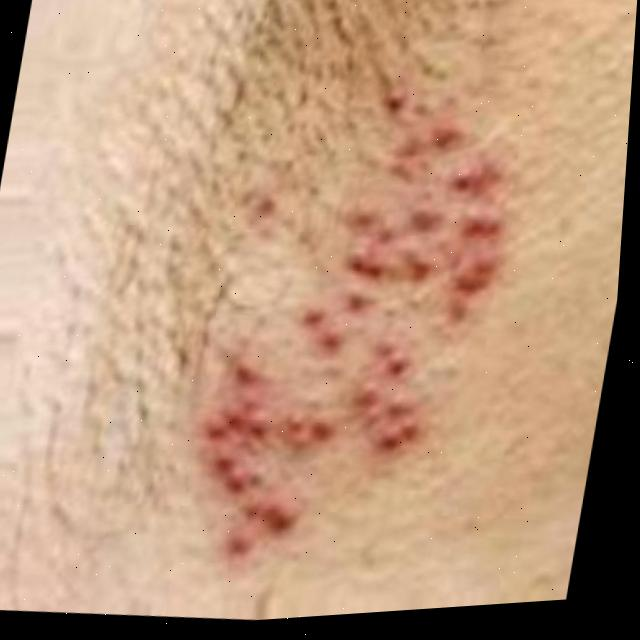Shingles: (187, 95, 524, 562)
